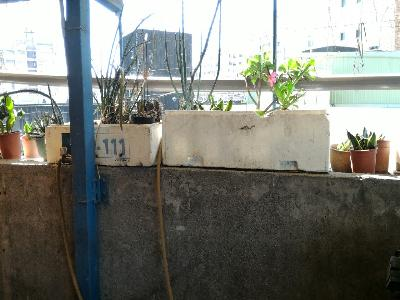styrofoam: (161, 108, 330, 173), (46, 121, 162, 167)
